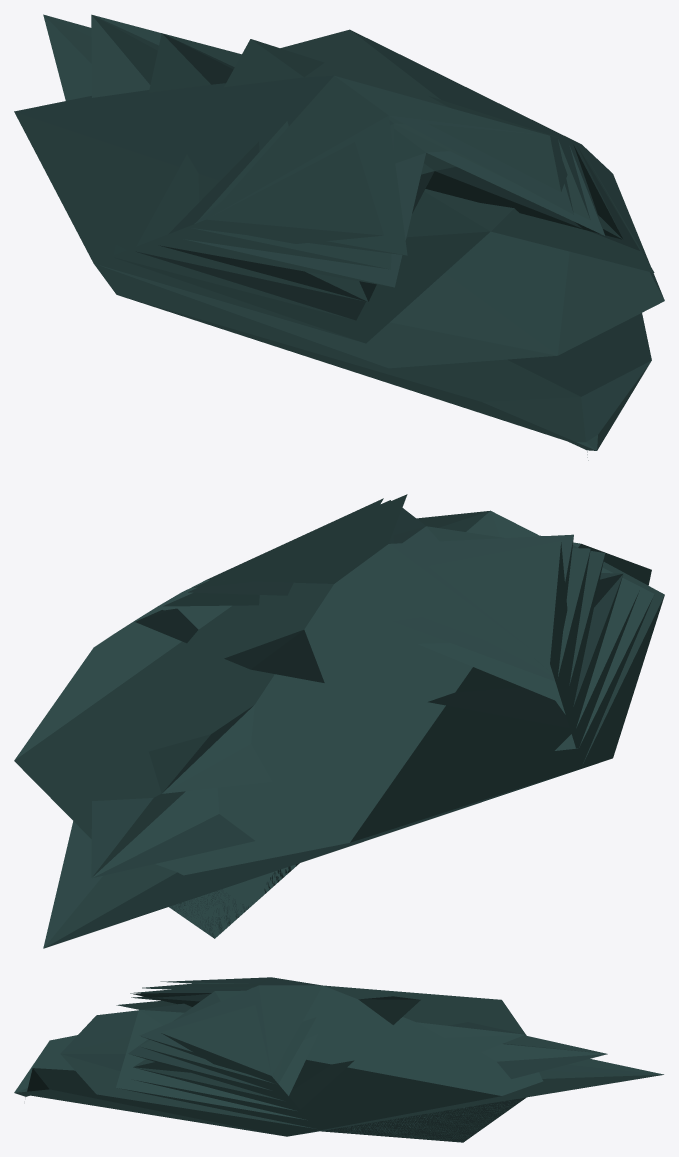
Rendered from enemy1.glb.
3 views of the same model, one above another, from view 1: azimuth 30°, elevation 25°; view 2: azimuth 150°, elevation 25°; view 3: azimuth 270°, elevation 25° (orthographic). The views are drawn at different scales.
Parts seen in each view (by area): view 1: Pyramid.001; view 2: Pyramid.001; view 3: Pyramid.001.
Boxes of the visible parts, box(x1,y1,x2,y2) form: Pyramid.001: box(14, 14, 664, 460); Pyramid.001: box(14, 494, 664, 948); Pyramid.001: box(14, 977, 663, 1142).
Size of the model in its own units: 7.12 by 3.67 by 13.75.
